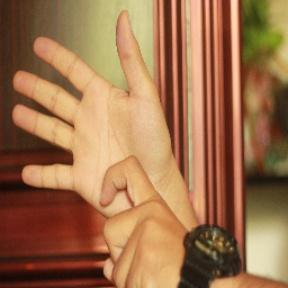R: (8, 9, 184, 288)
